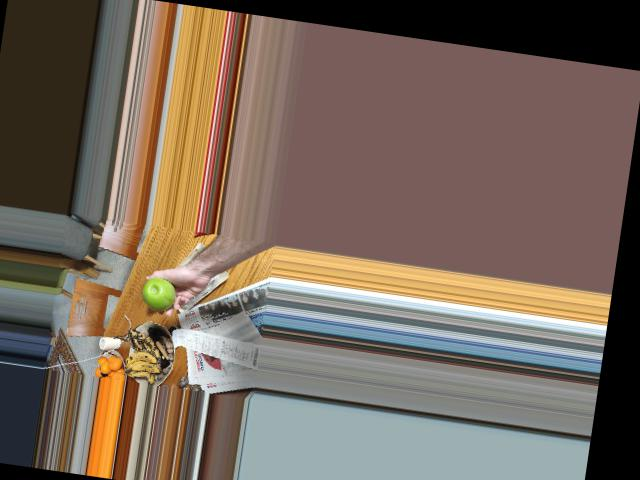apple: (139, 275, 178, 313)
